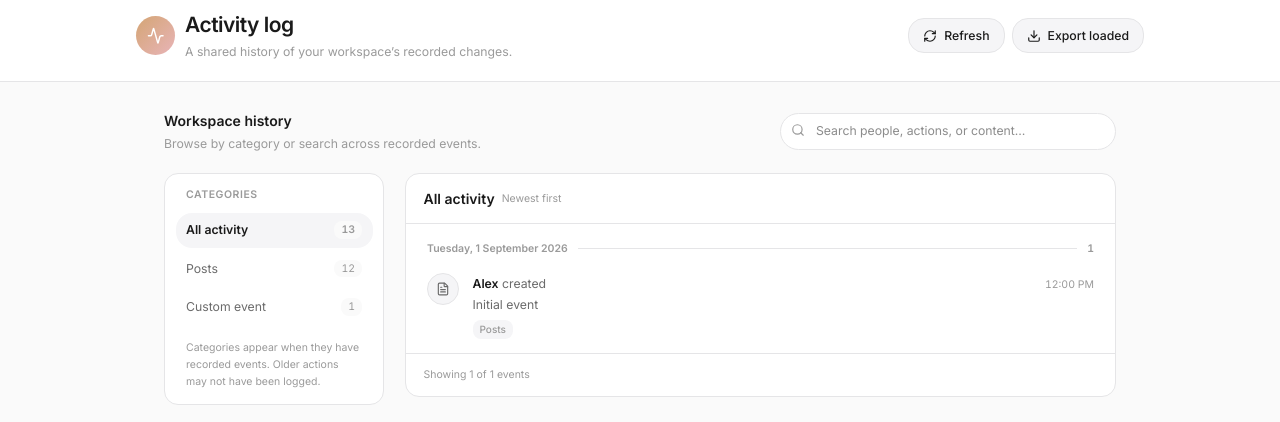
Test: Activity page › builds category filters from recorded categories, including unfamiliar types
The image size is (1280, 422).
Expected: the text "Initial event" is shown, left=472, top=297, right=538, bottom=312
Click the button "Custom event 1": (274, 307) left=176, top=290, right=372, bottom=324
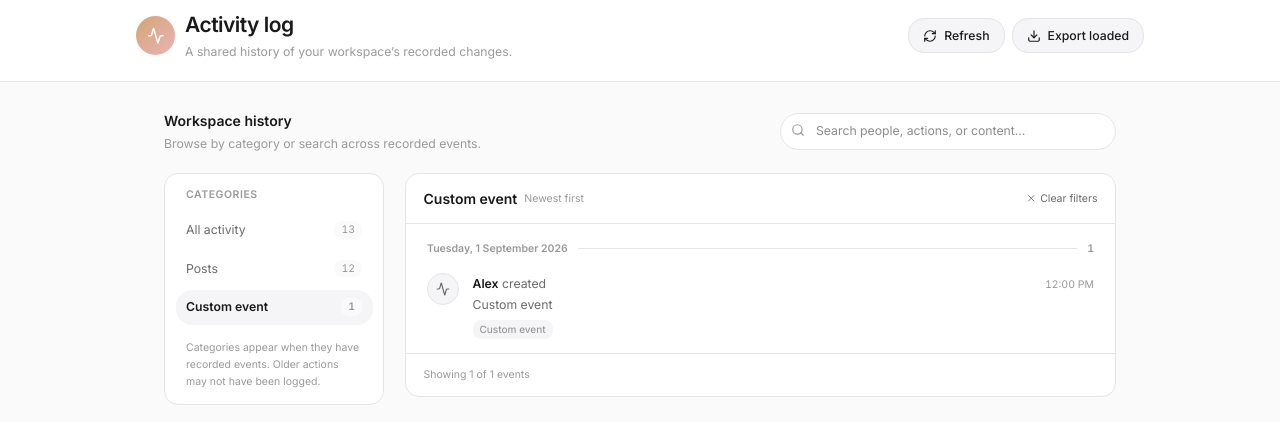
Result: the 1st text "Custom event" is shown at left=472, top=297, right=552, bottom=312
